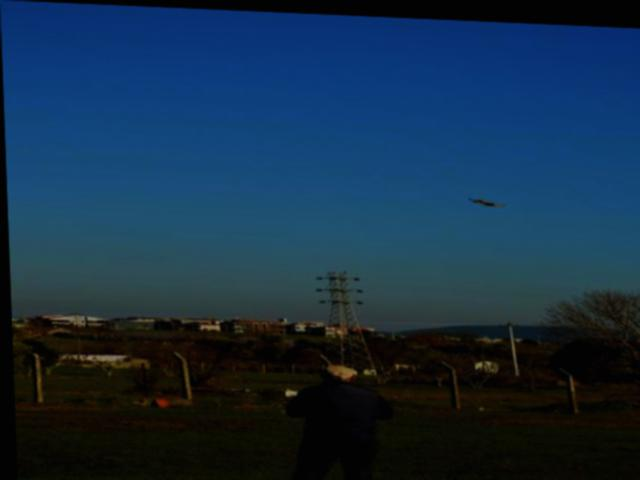iha: (468, 194, 504, 201)
